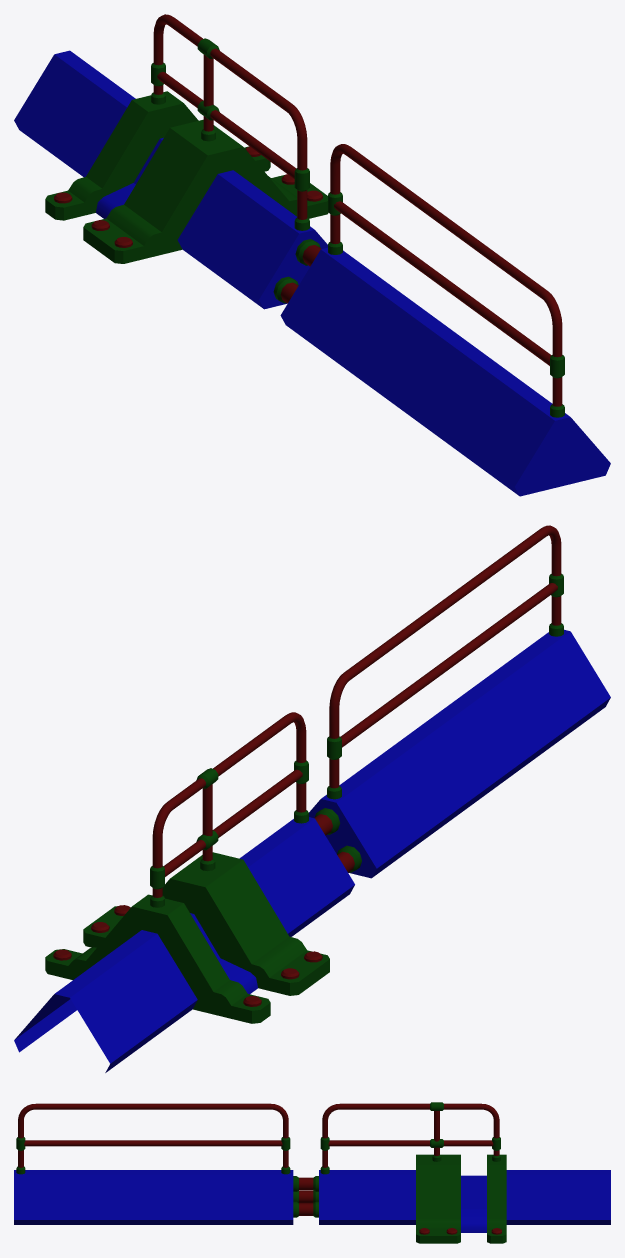
Rendered from SM_BridgePatern01.FBX.
3 views of the same model, one above another, from view 1: azimuth 30°, elevation 25°; view 2: azimuth 150°, elevation 25°; view 3: azimuth 270°, elevation 25° (orthographic). The views are drawn at different scales.
Visible parts, largest first — view 1: Box005; view 2: Box005; view 3: Box005.
Boxes of the visible parts, box(x1,y1,x2,y2) form: Box005: box(14, 14, 610, 496); Box005: box(14, 525, 610, 1072); Box005: box(14, 1102, 610, 1243).
Bounding box in the file's own units: 578 × 472 × 2325.
